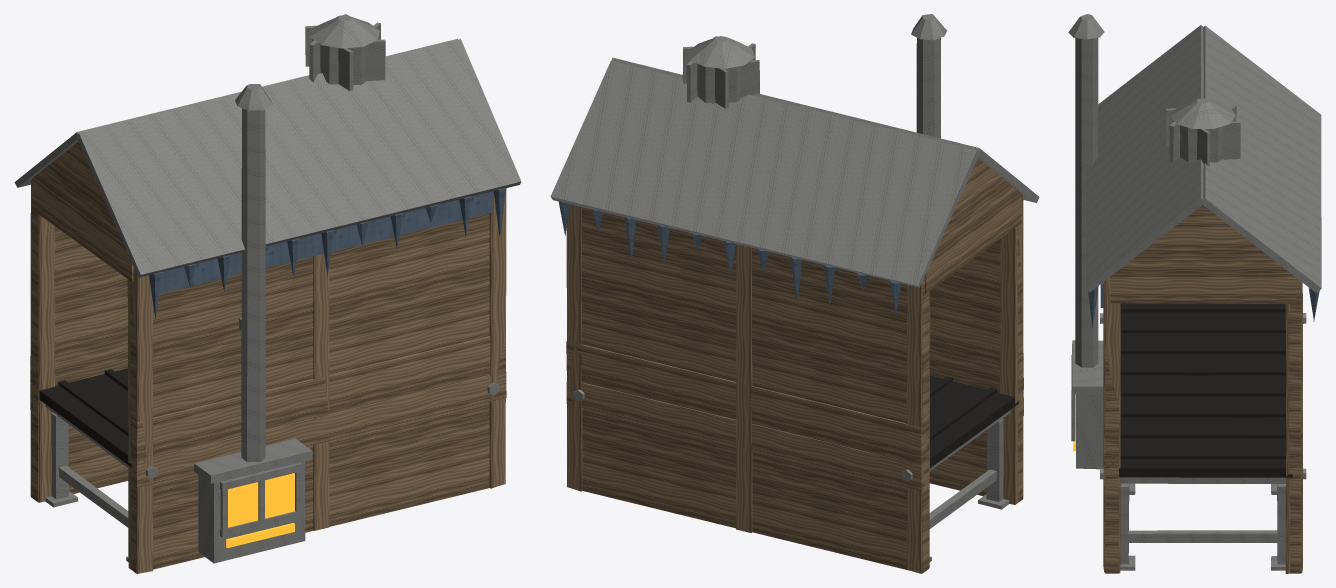
The model's file is thawing_shed.glb.
3 renders of one model, left to right at view 1: azimuth 30°, elevation 25°; view 2: azimuth 150°, elevation 25°; view 3: azimuth 270°, elevation 25°, orthographic. The views are drawn at different scales.
Parts seen in each view (by area): view 1: ThawingShed, Vent, Belt; view 2: ThawingShed, Belt, Vent; view 3: ThawingShed, Belt, Vent, Roller2.
Part boxes in pixels (left/top/right/bottom): ThawingShed: left=14, top=39, right=521, bottom=573; Vent: left=305, top=14, right=385, bottom=90; Belt: left=39, top=368, right=131, bottom=467; ThawingShed: left=550, top=14, right=1039, bottom=573; Belt: left=930, top=375, right=1018, bottom=468; Vent: left=682, top=36, right=759, bottom=108; ThawingShed: left=1068, top=14, right=1321, bottom=573; Belt: left=1119, top=303, right=1292, bottom=477; Vent: left=1166, top=98, right=1240, bottom=166; Roller2: left=1120, top=477, right=1285, bottom=483.
Size of the model in its own units: 3.48 by 4.08 by 2.14.
Materials: 5 (3 with a texture image).
